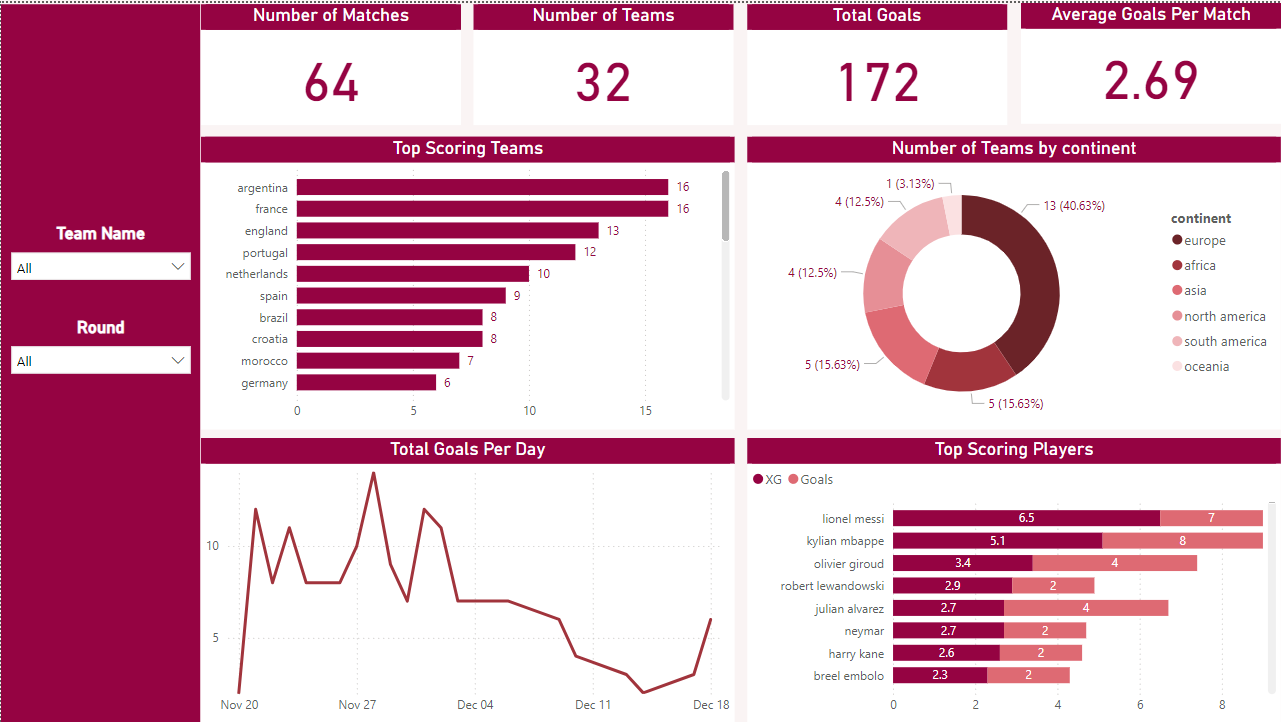

The page's visual inventory and layout, read from the dashboard file:
{"tool":"powerbi","page":{"name":"Overview","canvas":[1280,720],"ordinal":0},"visuals":[{"type":"card","title":"Number of Matches","fields":{"Values":["DAX measures.Number of Matches"]},"box":[199.6,1.3,260,120.5],"z":0},{"type":"card","title":"Number of Teams","fields":{"Values":["DAX measures.Number of Teams"]},"box":[473,1.3,260,120.5],"z":1000},{"type":"card","title":"Total Goals","fields":{"Values":["DAX measures.Total Tournament Goals"]},"box":[746.4,1.3,260,120.5],"z":2000},{"type":"card","title":"Average Goals Per Match","fields":{"Values":["DAX measures.Average Goals Per Match"]},"box":[1019.5,0,260.5,120.5],"z":3000},{"type":"barChart","title":"Top Scoring Teams","fields":{"Y":["DAX measures.Total Tournament Goals"],"Category":["Dim_team.team_name"]},"box":[199.6,133.5,533.9,292.9],"z":4000},{"type":"barChart","title":"Top Scoring Players","fields":{"Category":["Dim_player.player_name"],"Y":["DAX measures.XG","DAX measures.Goals"]},"box":[746.4,435.4,533.9,285.1],"z":5000},{"type":"donutChart","fields":{"Y":["DAX measures.Number of Teams"],"Category":["Dim_team.continent"]},"box":[746.4,133.5,533.9,292.9],"z":6000},{"type":"lineChart","title":"Total Goals Per Day","fields":{"Y":["DAX measures.Total Tournament Goals"],"Category":["Dim_match.match_date.Variation.Date Hierarchy.Year","Dim_match.match_date.Variation.Date Hierarchy.Month","Dim_match.match_date.Variation.Date Hierarchy.Day"]},"box":[199.6,435.4,533.9,285.1],"z":7000},{"type":"shape","box":[0,1.3,199.6,719.2],"z":8000},{"type":"slicer","title":"Team Name","fields":{"Values":["Dim_team.team_name"]},"box":[0,220.5,199.6,79],"z":9000},{"type":"slicer","title":"Round","fields":{"Values":["Dim_match.round"]},"box":[0,313.8,199.6,79],"z":10000}]}

Visuals, with their boxes in screenshot pixels (x1, y1, x2, y2), scaled from the page's 1280x720 canvas onto the 1281x722 screenshot:
"Number of Matches" card: rect(200, 1, 460, 122)
"Number of Teams" card: rect(473, 1, 734, 122)
"Total Goals" card: rect(747, 1, 1007, 122)
"Average Goals Per Match" card: rect(1020, 0, 1280, 121)
"Top Scoring Teams" barChart: rect(200, 134, 734, 428)
"Top Scoring Players" barChart: rect(747, 437, 1280, 721)
donutChart - DAX measures.Number of Teams x Dim_team.continent: rect(747, 134, 1280, 428)
"Total Goals Per Day" lineChart: rect(200, 437, 734, 721)
shape: rect(0, 1, 200, 721)
"Team Name" slicer: rect(0, 221, 200, 300)
"Round" slicer: rect(0, 315, 200, 394)
